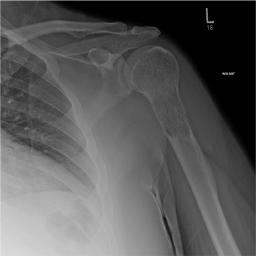cancer: (124, 47, 195, 162)
